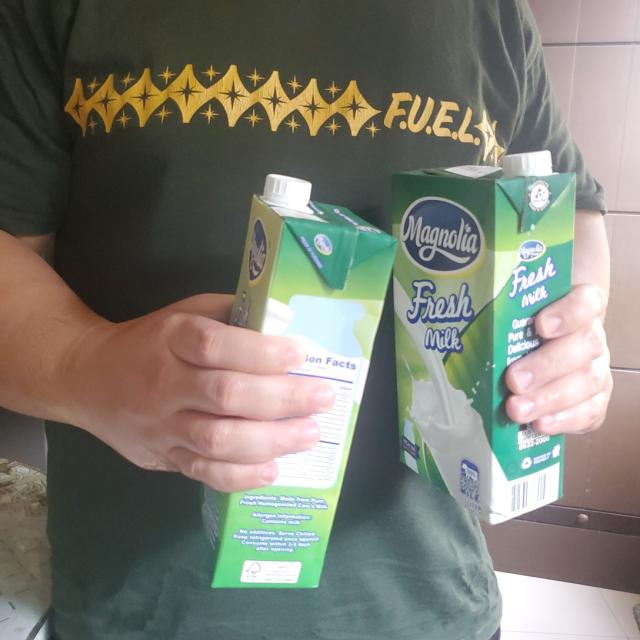milk: (191, 172, 397, 588), (388, 148, 576, 522)
